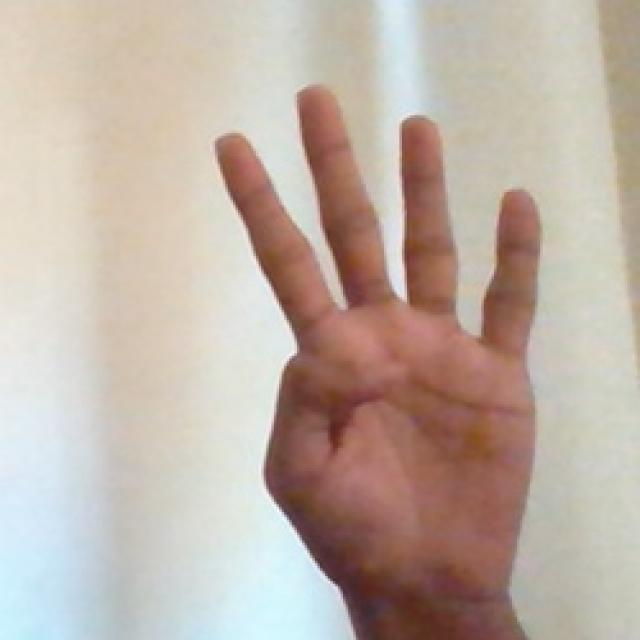Numeric-4: (212, 84, 536, 596)
